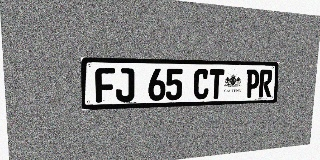5: (166, 69, 183, 100)
6: (148, 68, 166, 101)
C: (193, 69, 209, 99)
F: (95, 68, 115, 103)
J: (116, 68, 134, 102)
P: (245, 69, 260, 98)
R: (258, 70, 273, 97)
T: (209, 69, 224, 99)
